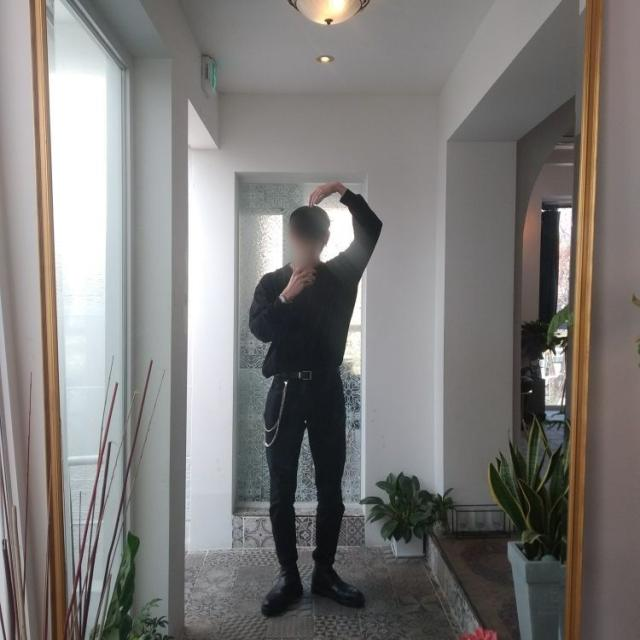denimpants: (263, 364, 343, 567)
longsleeve: (246, 188, 374, 376)
